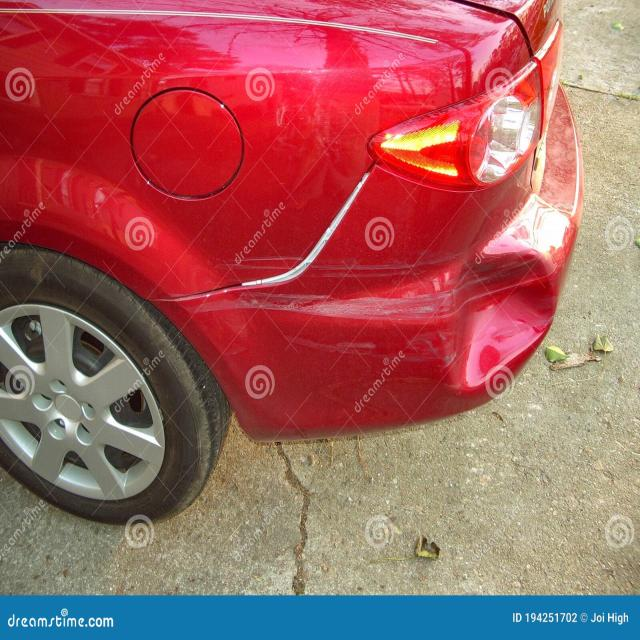dent: (446, 245, 558, 398)
misalignment: (176, 160, 376, 300)
scratch: (188, 250, 560, 375)
